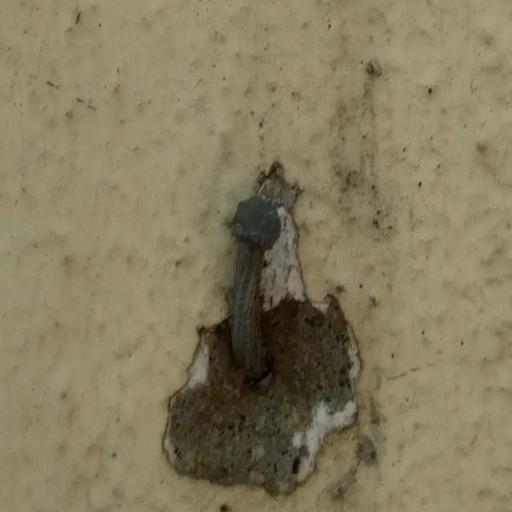spalling: (156, 126, 379, 504)
